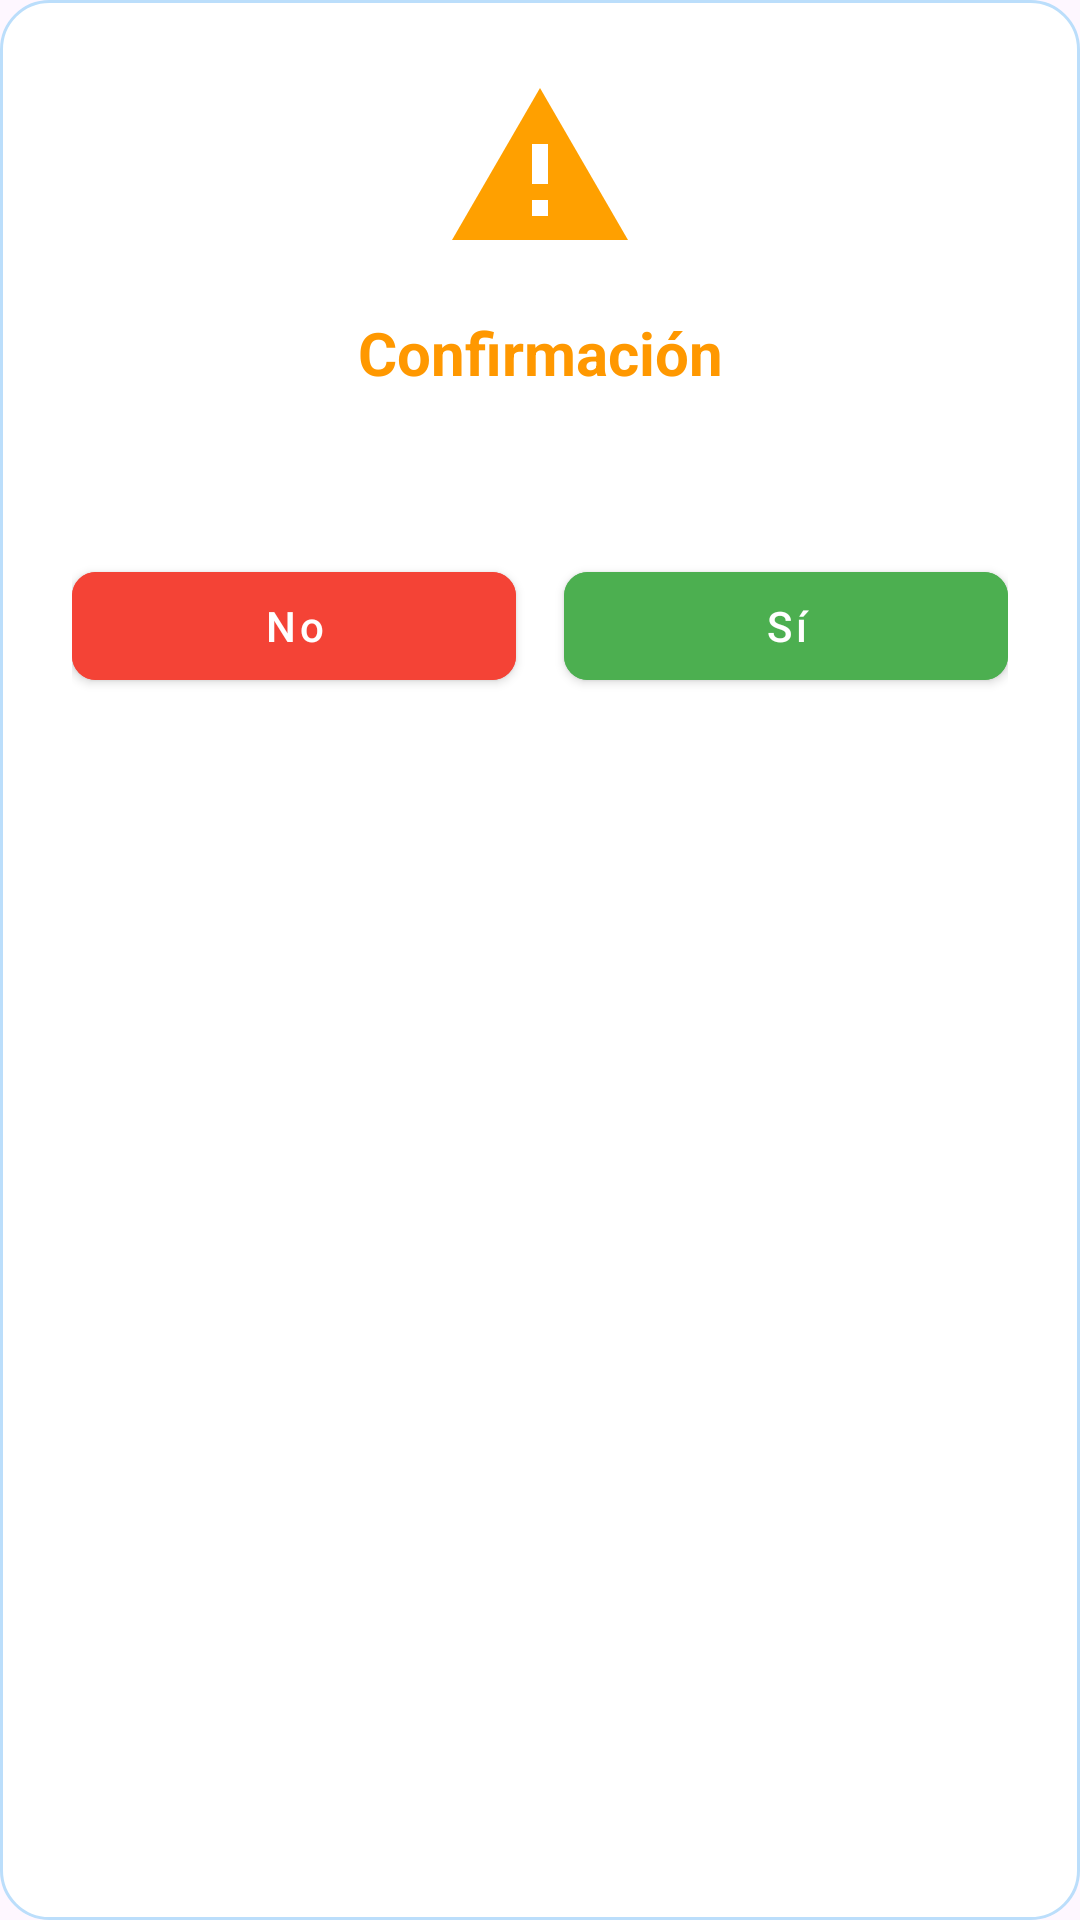

Icons on this 1080 x 1920 Android screen, each with the point to tap as (x=x, y=y):
warning: (x=540, y=164)
